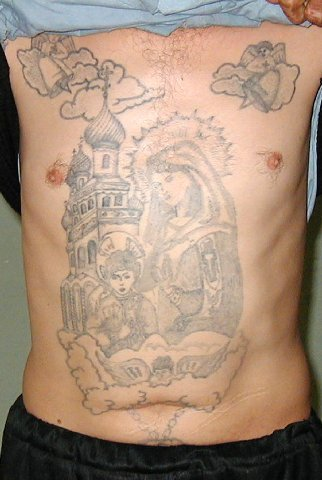tatu1_angel: (210, 33, 298, 119), (17, 30, 93, 99)
tatu2_bogorodica: (92, 114, 246, 338)
